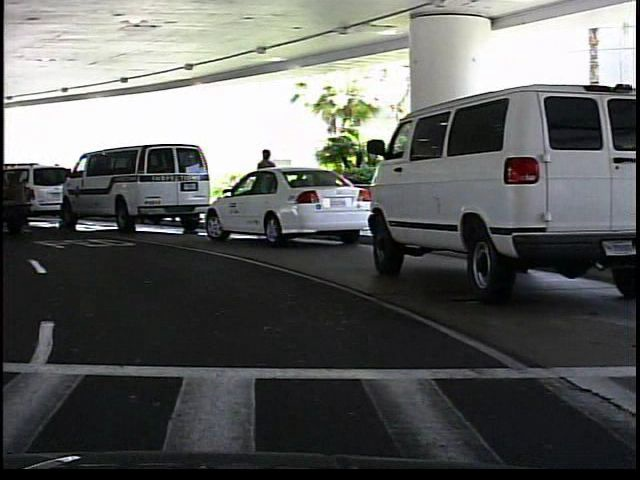person: (253, 144, 281, 224)
